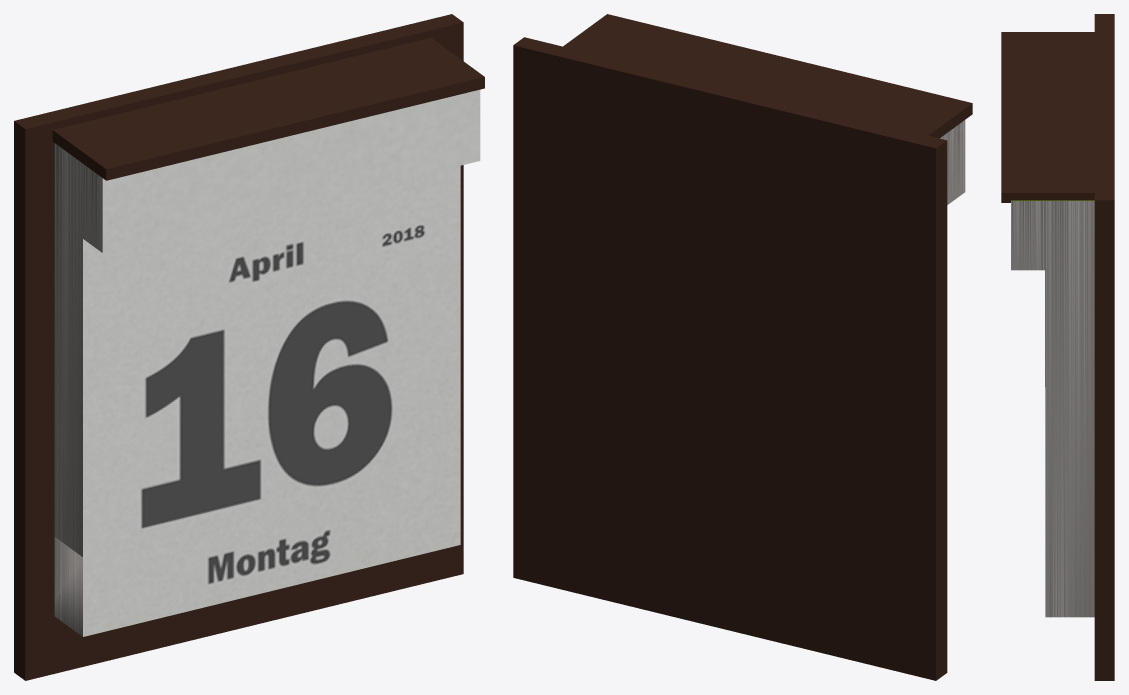
File: Calendar.FBX
3 renders of one model, left to right at view 1: azimuth 30°, elevation 25°; view 2: azimuth 150°, elevation 25°; view 3: azimuth 270°, elevation 25°, orthographic. The views are drawn at different scales.
Parts seen in each view (by area): view 1: Block, Box001; view 2: Box001, Block; view 3: Box001, Block.
Boxes of the visible parts, left/top/right/bottom form: Block: left=54, top=89, right=480, bottom=636; Box001: left=14, top=14, right=484, bottom=680; Box001: left=513, top=14, right=972, bottom=680; Block: left=940, top=120, right=965, bottom=204; Box001: left=1001, top=14, right=1114, bottom=680; Block: left=1011, top=200, right=1094, bottom=617.
Size of the model in its own units: 46.29 by 55.7 by 11.92.
2 materials, 1 textured.
